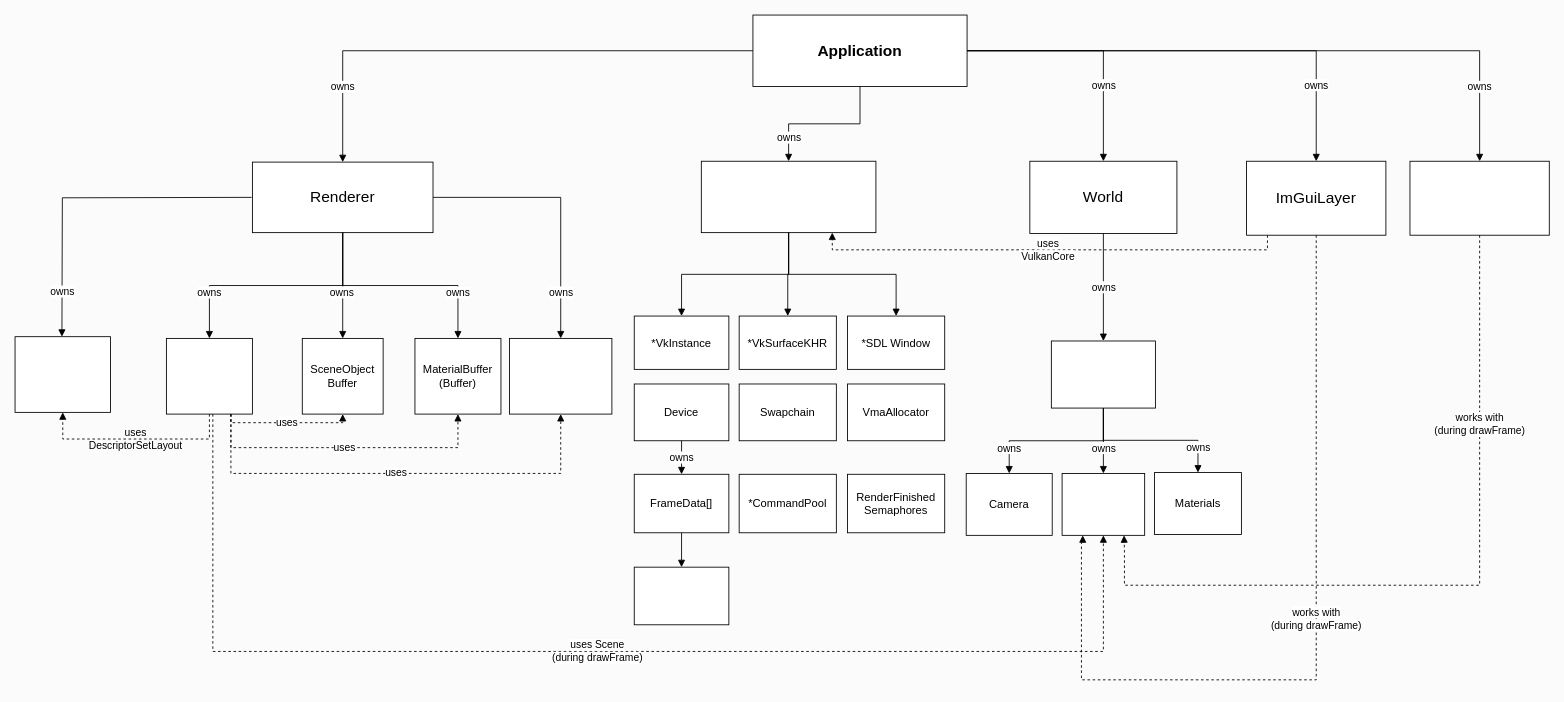
Image size: 1564x702. Some labels were removed from this diagram. Each missing label, with the centre of its shape:
"Compute DescriptorSet" goes at (x=209, y=376).
"Compute Pipeline" goes at (x=62, y=374).
"OutputImage / OutputImageView" goes at (x=560, y=376).
"Queue" goes at (x=681, y=595).
"RenderSettings" goes at (x=1479, y=197).
"Scene" goes at (x=1102, y=374).
"Spheres / Objects" goes at (x=1103, y=504).
"VulkanCore" goes at (x=788, y=196).
